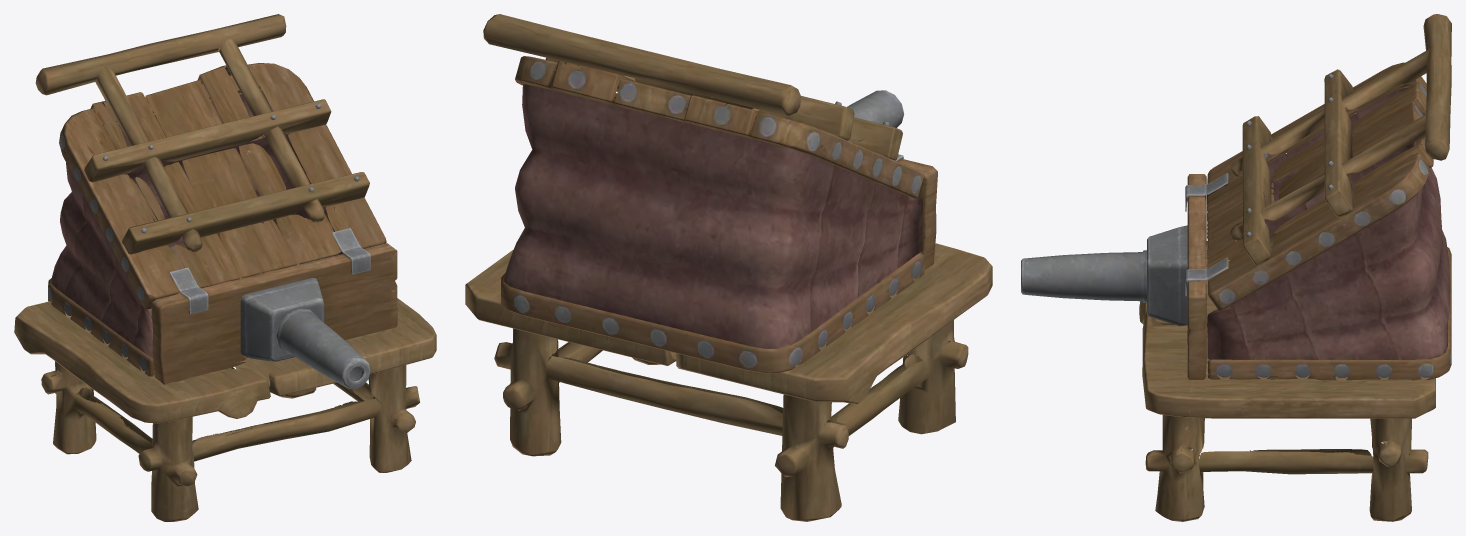
3 renders of one model, left to right at view 1: azimuth 30°, elevation 25°; view 2: azimuth 150°, elevation 25°; view 3: azimuth 270°, elevation 25°, orthographic. The views are drawn at different scales.
Visible parts, largest first — view 1: SM_Forge_Bellows_01_LOD0; view 2: SM_Forge_Bellows_01_LOD0; view 3: SM_Forge_Bellows_01_LOD0.
Boxes of the visible parts, x1,y1,x2,y2 form: SM_Forge_Bellows_01_LOD0: (14, 14, 436, 521); SM_Forge_Bellows_01_LOD0: (465, 14, 992, 521); SM_Forge_Bellows_01_LOD0: (1021, 14, 1451, 521).
Size of the model in its own units: 1.2 by 1.34 by 1.37.
Materials: 1 (1 with a texture image).
